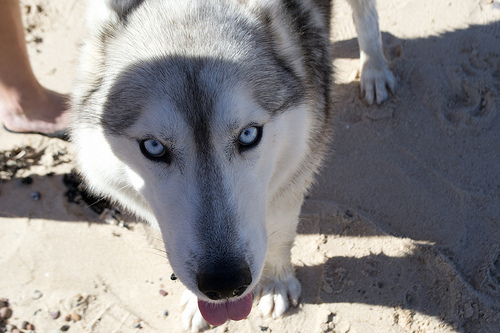dog: (68, 0, 397, 332)
